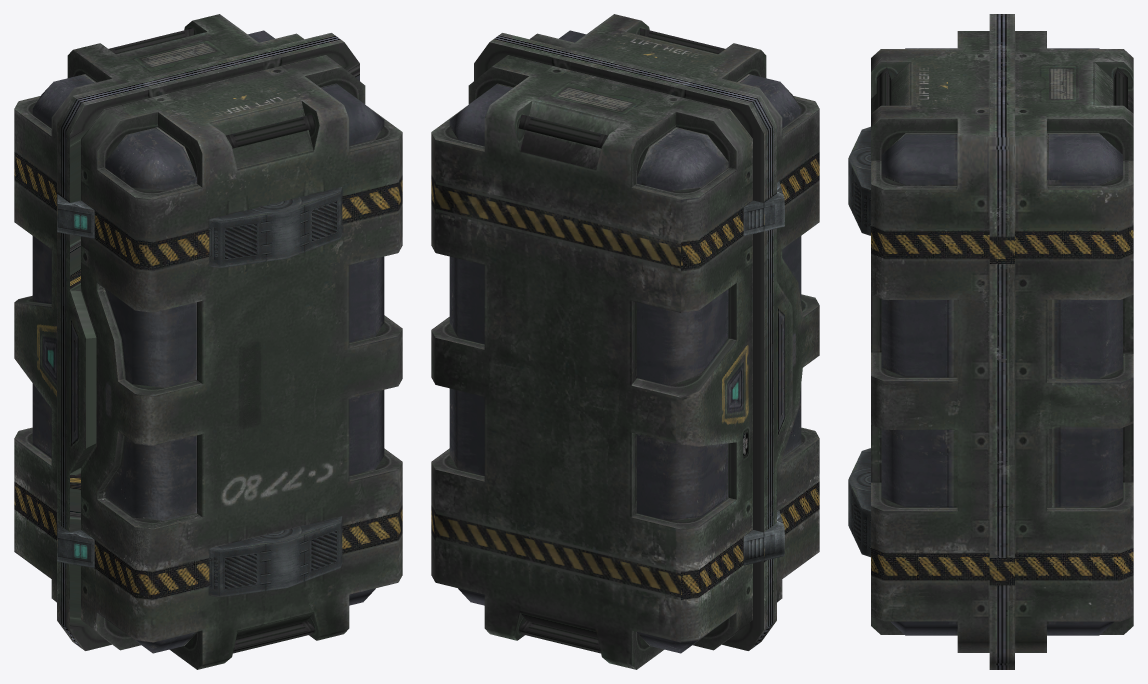
The model's file is t6_wpn_supply_drop_ally_LOD1.obj.
3 renders of one model, left to right at view 1: azimuth 30°, elevation 25°; view 2: azimuth 150°, elevation 25°; view 3: azimuth 270°, elevation 25°, orthographic. The views are drawn at different scales.
Parts seen in each view (by area): view 1: mtl_t6_wpn_supply_drop_ally; view 2: mtl_t6_wpn_supply_drop_ally; view 3: mtl_t6_wpn_supply_drop_ally.
Part boxes in pixels (<box>): mtl_t6_wpn_supply_drop_ally: <box>14,14,402,669</box>; mtl_t6_wpn_supply_drop_ally: <box>431,14,819,669</box>; mtl_t6_wpn_supply_drop_ally: <box>848,14,1133,669</box>.
Bounding box in the file's own units: 107 × 187 × 90.68.
